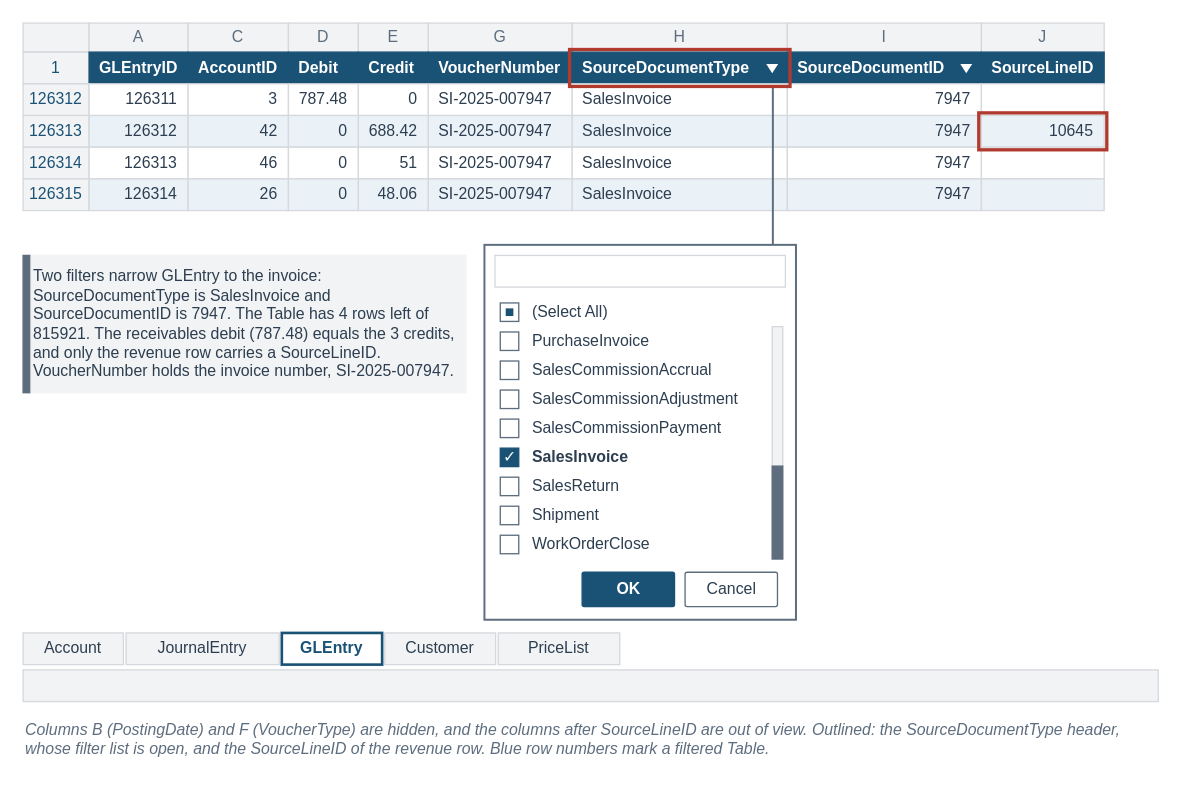
Some shapes in this 1181 by 785 pixel diagram are drawn without their labels. Each missing label, with the box of its shape:
4 of 815921 records found: (22, 669, 1158, 702)
Search: (494, 254, 785, 287)
